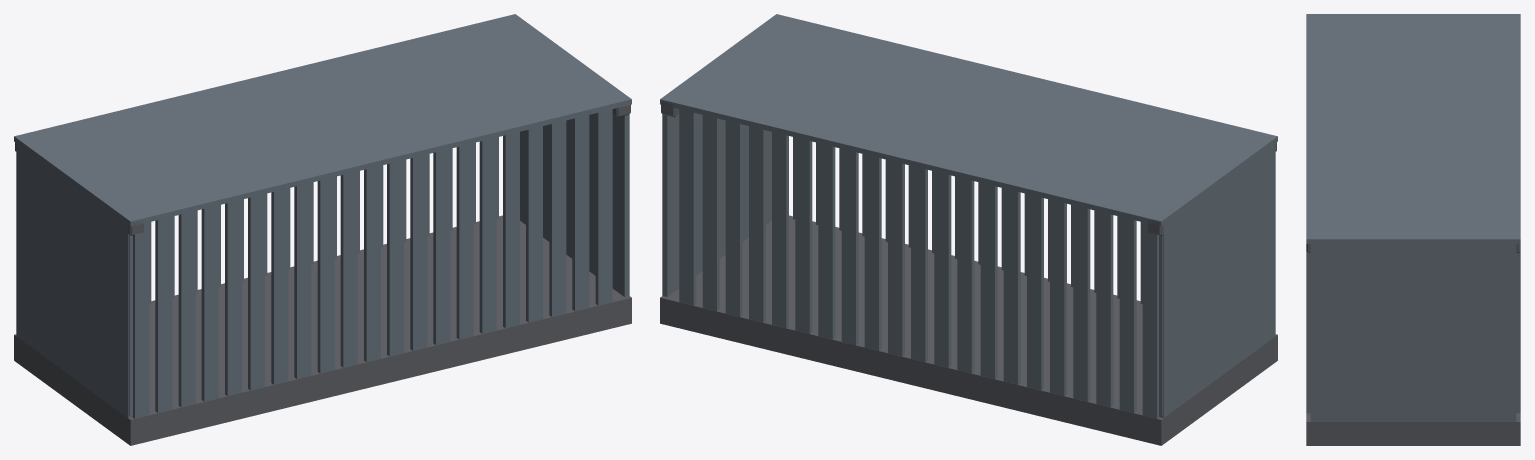
The model's file is bl-container.glb.
3 views of the same model, side by side, from view 1: azimuth 30°, elevation 25°; view 2: azimuth 150°, elevation 25°; view 3: azimuth 270°, elevation 25° (orthographic). The views are drawn at different scales.
Visible parts, largest first — view 1: container; view 2: container; view 3: container.
Boxes of the visible parts, box(x1,y1,x2,y2) form: container: box(14, 14, 631, 445); container: box(660, 14, 1277, 445); container: box(1306, 14, 1520, 445).
Bounding box in the file's own units: 6.06 × 2.59 × 2.44.
